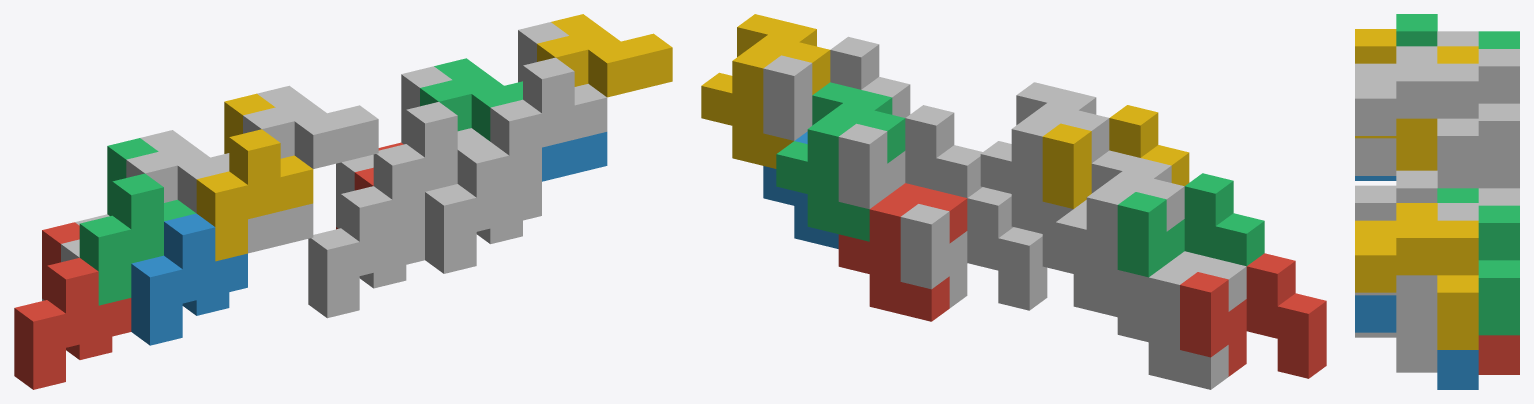
The model's file is tiling.obj.
3 renders of one model, left to right at view 1: azimuth 30°, elevation 25°; view 2: azimuth 150°, elevation 25°; view 3: azimuth 270°, elevation 25°, orthographic. The views are drawn at different scales.
Parts seen in each view (by area): view 1: copy_1_domain_1, copy_1_domain_5, copy_1_domain_4, copy_1_domain_8, copy_1_domain_6, copy_1_domain_2, copy_1_domain_3, copy_1_domain_7, copy_2_domain_4, copy_2_domain_8, copy_2_domain_3, copy_2_domain_7 (+2 smaller); view 2: copy_1_domain_1, copy_1_domain_5, copy_1_domain_3, copy_1_domain_7, copy_2_domain_7, copy_2_domain_3, copy_2_domain_4, copy_2_domain_8, copy_2_domain_5, copy_2_domain_1, copy_1_domain_8, copy_1_domain_4 (+2 smaller); view 3: copy_2_domain_8, copy_2_domain_4, copy_2_domain_3, copy_2_domain_7, copy_1_domain_8, copy_1_domain_4, copy_2_domain_6, copy_1_domain_7, copy_1_domain_3, copy_1_domain_6, copy_2_domain_5, copy_2_domain_2 (+2 smaller).
Boxes of the visible parts, <box> form: copy_1_domain_1: <box>14,222,131,389</box>; copy_1_domain_5: <box>308,154,424,318</box>; copy_1_domain_4: <box>196,93,313,261</box>; copy_1_domain_8: <box>490,22,607,189</box>; copy_1_domain_6: <box>425,142,541,273</box>; copy_1_domain_2: <box>131,213,247,345</box>; copy_1_domain_3: <box>79,138,196,305</box>; copy_1_domain_7: <box>373,66,489,233</box>; copy_2_domain_4: <box>243,85,378,168</box>; copy_2_domain_8: <box>537,14,672,97</box>; copy_2_domain_3: <box>126,130,229,213</box>; copy_2_domain_7: <box>420,58,522,141</box>; copy_1_domain_1: <box>1180,253,1326,378</box>; copy_1_domain_5: <box>900,187,1047,310</box>; copy_1_domain_3: <box>1117,173,1264,277</box>; copy_1_domain_7: <box>838,105,982,209</box>; copy_2_domain_7: <box>776,82,905,241</box>; copy_2_domain_3: <box>1055,150,1184,309</box>; copy_2_domain_4: <box>980,82,1109,236</box>; copy_2_domain_8: <box>701,14,830,168</box>; copy_2_domain_5: <box>838,183,967,321</box>; copy_2_domain_1: <box>1117,251,1246,389</box>; copy_1_domain_8: <box>763,36,910,140</box>; copy_1_domain_4: <box>1042,105,1189,208</box>; copy_2_domain_8: <box>1355,203,1478,349</box>; copy_2_domain_4: <box>1355,46,1478,188</box>; copy_2_domain_3: <box>1437,31,1519,178</box>; copy_2_domain_7: <box>1437,188,1519,335</box>; copy_1_domain_8: <box>1355,185,1478,332</box>; copy_1_domain_4: <box>1355,29,1478,170</box>; copy_2_domain_6: <box>1355,295,1478,389</box>; copy_1_domain_7: <box>1396,170,1519,205</box>; copy_1_domain_3: <box>1396,14,1519,48</box>; copy_1_domain_6: <box>1355,332,1437,372</box>; copy_2_domain_5: <box>1478,335,1519,374</box>; copy_2_domain_2: <box>1355,138,1396,175</box>.
Size of the model in its own units: 19 by 6 by 4.
